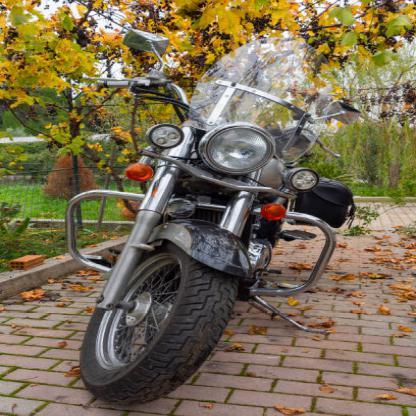Motorcycle: (67, 22, 341, 408)
